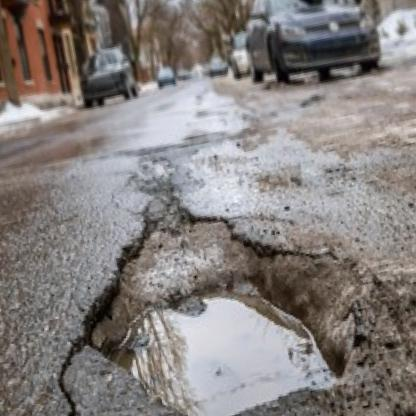pothole: (59, 165, 368, 416)
